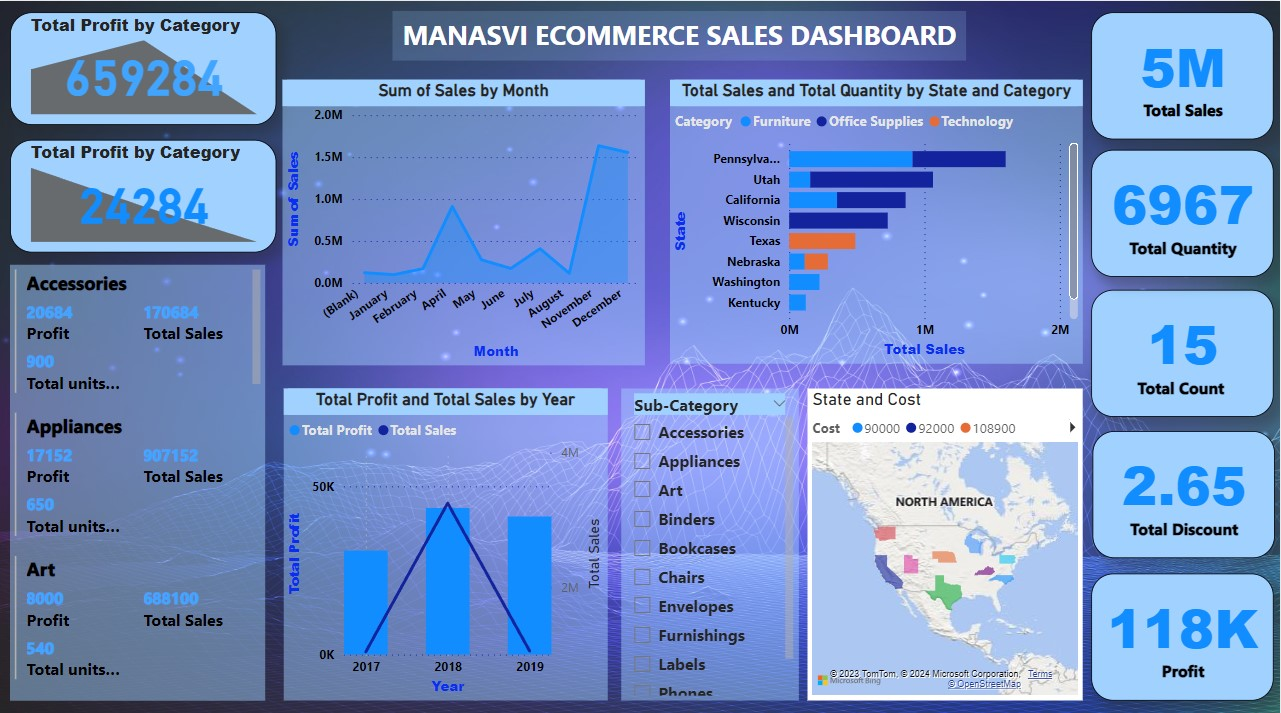

The page's visual inventory and layout, read from the dashboard file:
{"tool":"powerbi","page":{"name":"Page 1","canvas":[1280,720],"ordinal":0},"visuals":[{"type":"textbox","box":[392.7,9.5,573.6,50],"z":0},{"type":"barChart","fields":{"Y":["sales_details.Sales"],"Category":["Place_details.State"],"Series":["product_details.Category"]},"box":[669.6,78.2,413,284],"z":1000},{"type":"kpi","title":"Total Profit by Category","fields":{"Indicator":["sales_details.Sales"],"TrendLine":["product_details.Category"]},"box":[9.6,11,266.2,112.5],"z":2000},{"type":"kpi","title":"Total Profit by Category","fields":{"Indicator":["sales_details.Profit"],"TrendLine":["product_details.Category"]},"box":[9.6,138.6,266.2,112.5],"z":3000},{"type":"lineClusteredColumnComboChart","fields":{"Y2":["sales_details.Sales"],"Category":["order_details.08-11-2017.Variation.Date Hierarchy.Year"],"Y":["sales_details.Profit"]},"box":[283.2,388,323.7,311.8],"z":4000},{"type":"areaChart","fields":{"Y":["sales_details.Sales"],"Category":["order_details.08-11-2017.Variation.Date Hierarchy.Month"]},"box":[282.7,78.2,362.3,285.4],"z":5000},{"type":"multiRowCard","fields":{"Values":["product_details.Sub-Category","sales_details.Profit","sales_details.Sales","sales_details.Quantity"]},"box":[9.6,263.5,255.2,436.4],"z":6000},{"type":"filledMap","fields":{"Series":["sales_details.Cost "],"Category":["Place_details.State"]},"box":[808.1,388,274.9,311.8],"z":8000},{"type":"slicer","fields":{"Values":["product_details.Sub-Category"]},"box":[621.2,388,177.3,311.8],"z":9000},{"type":"card","fields":{"Values":["sales_details.Sales"]},"box":[1091.3,10.7,182.1,127.3],"z":10000},{"type":"card","fields":{"Values":["sales_details.Sales ID"]},"box":[1091.3,289.2,182.1,127.3],"z":11000},{"type":"card","fields":{"Values":["sales_details.Discount"]},"box":[1092.5,429.6,182.1,127.3],"z":12000},{"type":"card","fields":{"Values":["sales_details.Profit"]},"box":[1091.3,572.4,182.1,127.3],"z":13000},{"type":"card","fields":{"Values":["sales_details.Quantity"]},"box":[1091.3,148.8,182.1,127.3],"z":14000}]}

Visuals, with their boxes in screenshot pixels (x1, y1, x2, y2), scaled from the page's 1280x720 canvas onto the 1281x713 screenshot:
textbox: [393, 9, 967, 59]
barChart - sales_details.Sales x Place_details.State: [670, 77, 1083, 359]
"Total Profit by Category" kpi: [10, 11, 276, 122]
"Total Profit by Category" kpi: [10, 137, 276, 249]
lineClusteredColumnComboChart - sales_details.Sales x order_details.08-11-2017.Variation.Date Hierarchy.Year: [283, 384, 607, 693]
areaChart - sales_details.Sales x order_details.08-11-2017.Variation.Date Hierarchy.Month: [283, 77, 646, 360]
multiRowCard - product_details.Sub-Category x sales_details.Profit: [10, 261, 265, 693]
filledMap - sales_details.Cost  x Place_details.State: [809, 384, 1084, 693]
slicer - product_details.Sub-Category: [622, 384, 799, 693]
card - sales_details.Sales: [1092, 11, 1274, 137]
card - sales_details.Sales ID: [1092, 286, 1274, 412]
card - sales_details.Discount: [1093, 425, 1276, 551]
card - sales_details.Profit: [1092, 567, 1274, 693]
card - sales_details.Quantity: [1092, 147, 1274, 273]
